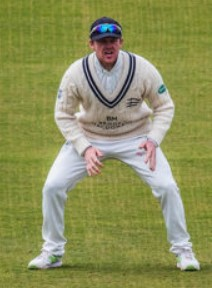LeftAnkle: (169, 232, 200, 276)
LeftElbow: (152, 84, 176, 126)
LeftKnee: (152, 164, 180, 212)
LeftShoulder: (136, 47, 161, 106)
RightAnkle: (28, 249, 64, 275)
RightElbow: (50, 96, 73, 131)
RightKnee: (41, 165, 69, 210)
RightShoulder: (57, 60, 80, 105)
RightWrist: (82, 138, 102, 185)
